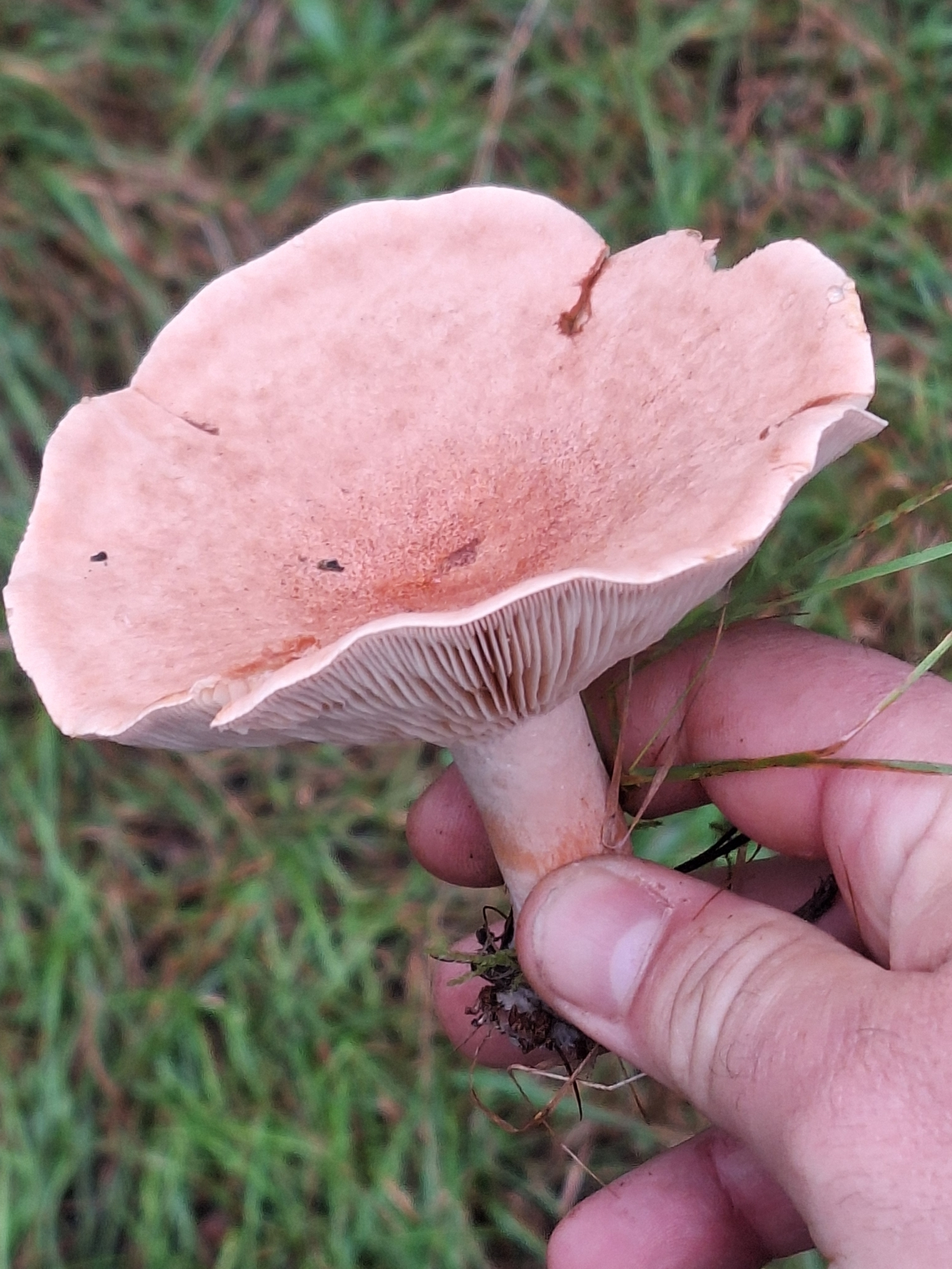cap: (5, 187, 874, 737)
stem: (450, 695, 627, 918)
underside: (115, 398, 885, 750)
